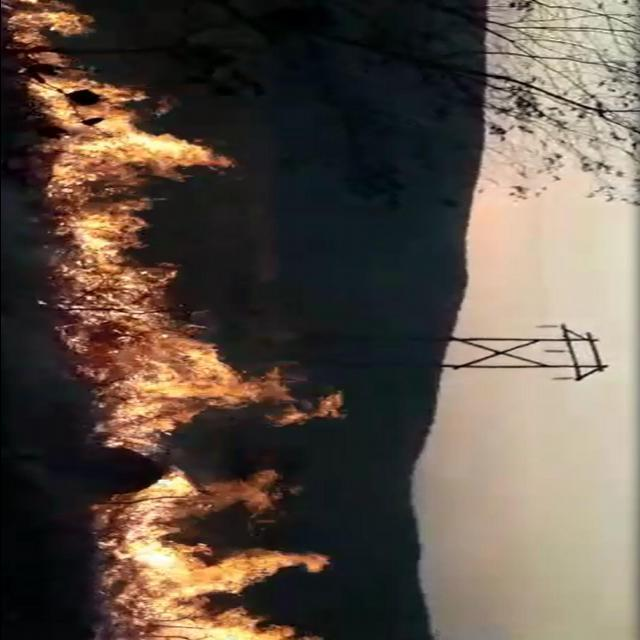Fire: (9, 2, 339, 452), (82, 470, 334, 639)
